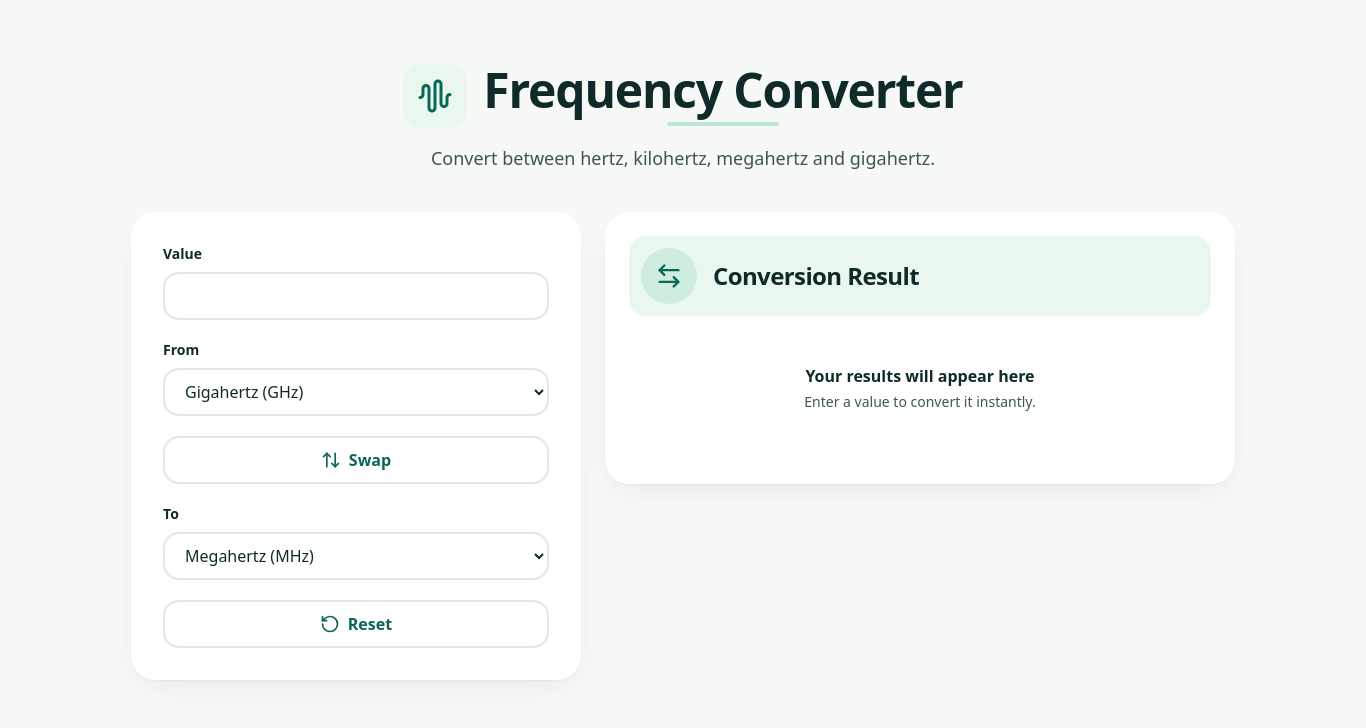
Frequency Converter › converts instantly, and swaps
Type "2.4" into the field labelled "Value" at (356, 296), box [163,272,549,320]
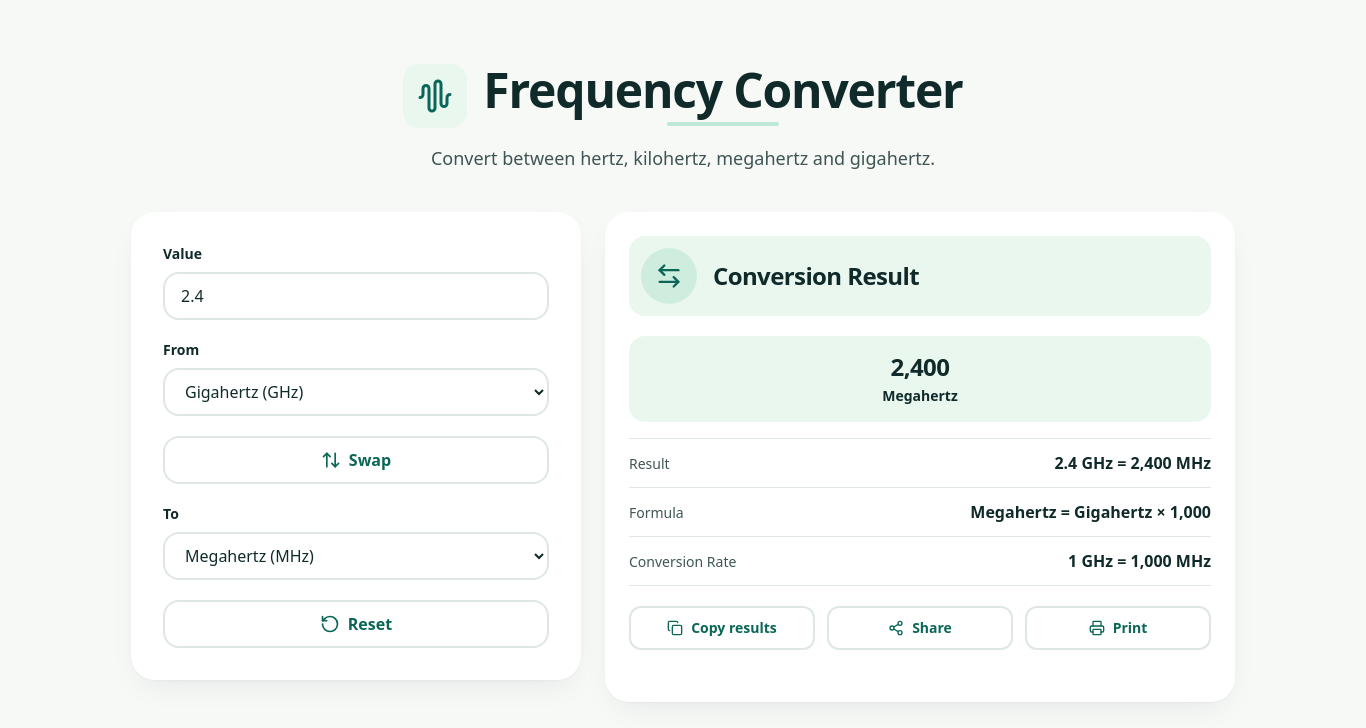
Click the button with aria-label "Swap units" at (356, 460), box [163,436,549,484]
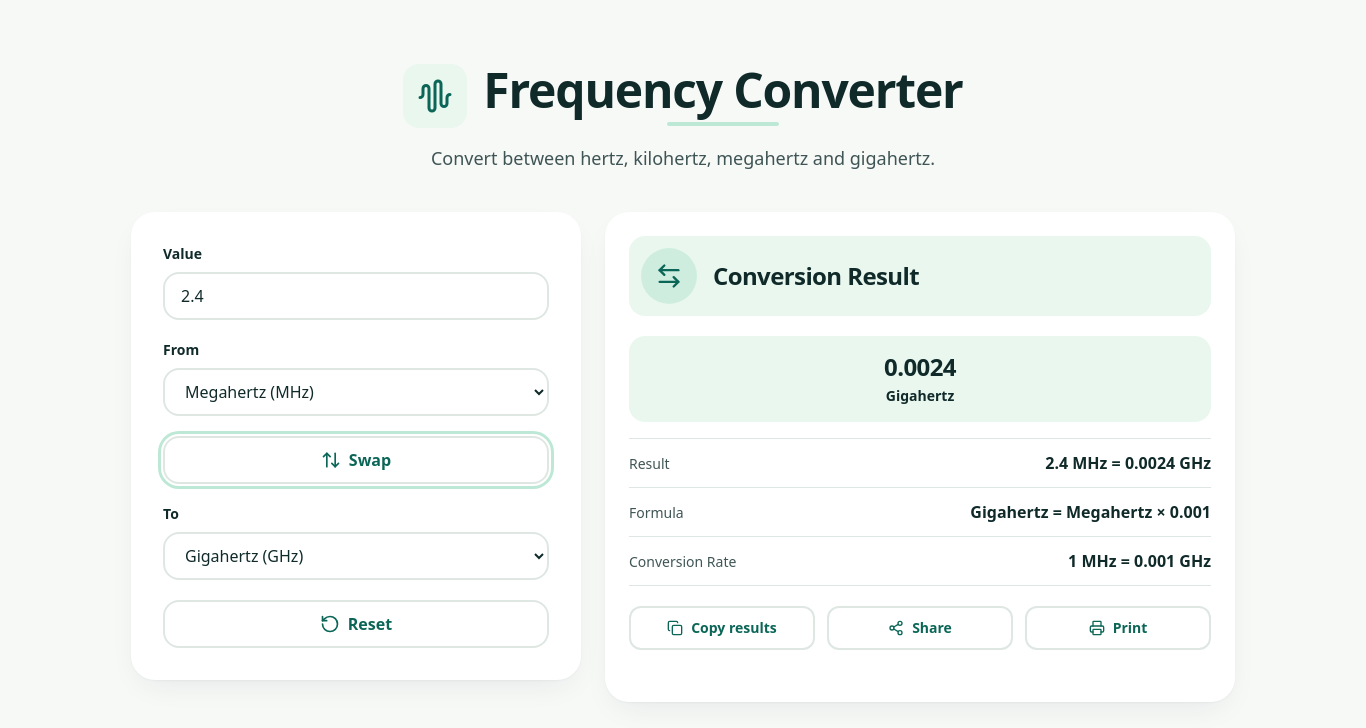
Now the dropdown labelled "From" shows "Megahertz (MHz)", box [163,368,549,416]
